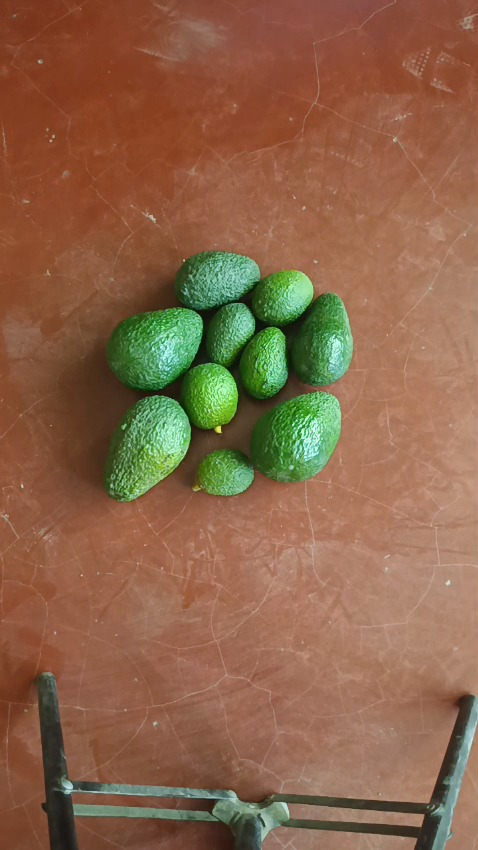Primera: (102, 394, 190, 499), (105, 308, 205, 391), (250, 391, 341, 482)
Segunda: (289, 293, 353, 386), (174, 250, 261, 311)
Tercera: (180, 362, 238, 430), (238, 326, 288, 399), (249, 270, 313, 327), (205, 301, 256, 368), (196, 449, 254, 496)
